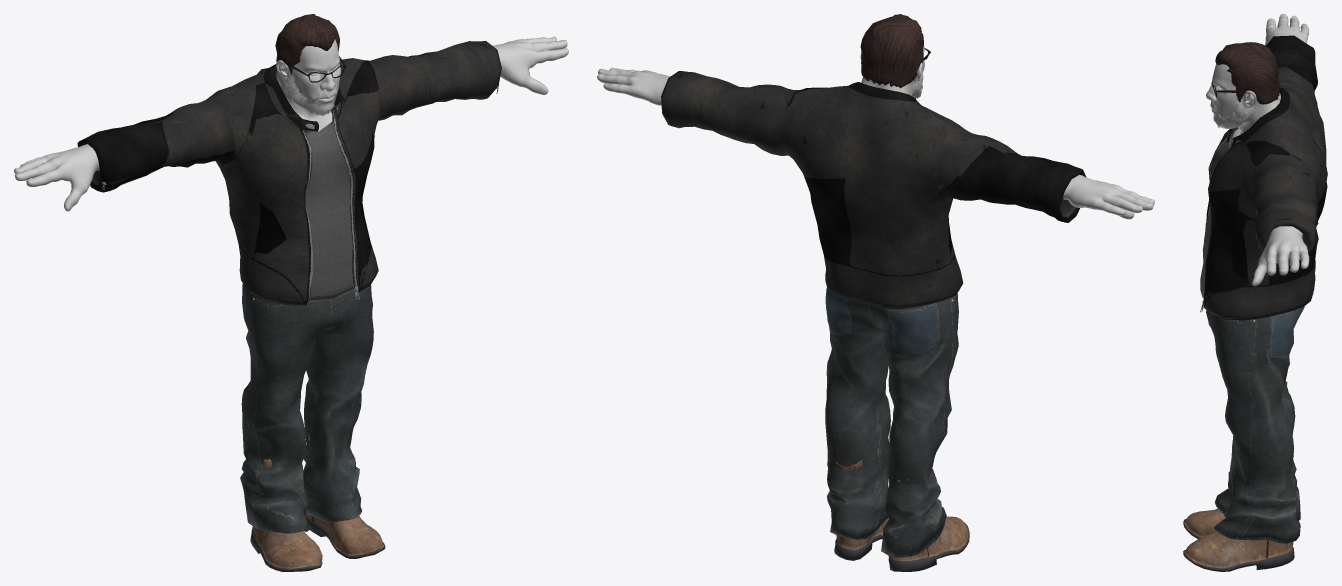
Rendered from Enemy_03.obj.
3 renders of one model, left to right at view 1: azimuth 30°, elevation 25°; view 2: azimuth 150°, elevation 25°; view 3: azimuth 270°, elevation 25°, orthographic. The views are drawn at different scales.
Visible parts, largest first — view 1: Tops, Bottoms, Body, Shoes, Hair; view 2: Tops, Bottoms, Body, Hair, Shoes; view 3: Tops, Bottoms, Body, Shoes, Hair, Beards.
Boxes of the visible parts, x1,y1,x2,y2 form: Tops: (77,41,501,305); Bottoms: (240,283,373,533); Body: (14,36,568,211); Shoes: (250,433,385,571); Hair: (275,14,339,74); Tops: (661,71,1086,308); Bottoms: (825,287,958,557); Body: (597,46,1154,219); Hair: (860,14,923,88); Shoes: (834,449,969,571); Tops: (1200,35,1327,320); Bottoms: (1206,306,1304,543); Body: (1206,14,1309,286); Shoes: (1183,472,1294,571); Hair: (1215,42,1279,104); Beards: (1213,97,1248,129).
Size of the model in its own units: 239 by 219 by 56.84.
